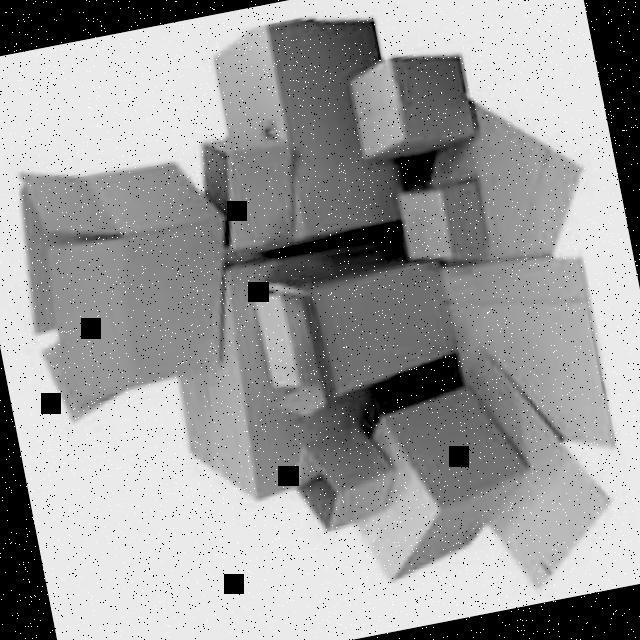cardboard_box: (146, 237, 414, 510), (0, 136, 243, 413), (200, 10, 400, 242), (352, 392, 538, 566), (241, 245, 458, 394), (344, 41, 479, 166), (283, 433, 402, 530), (400, 178, 488, 264)
